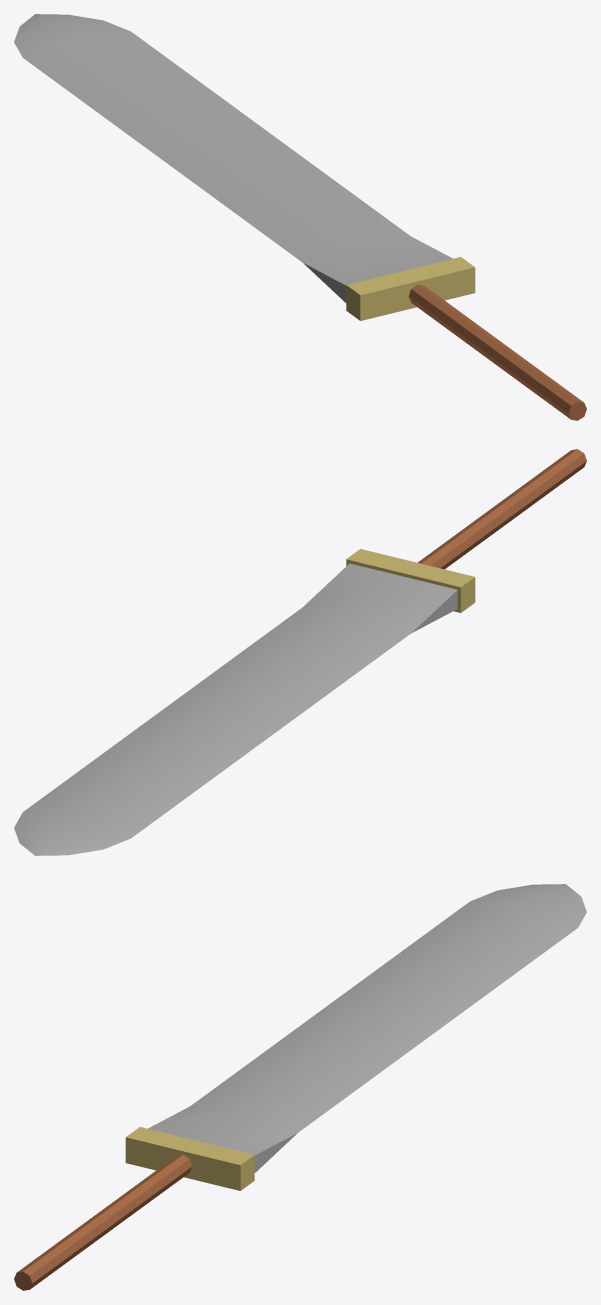
The model's file is Sword.fbx.
3 renders of one model, top to bottom at view 1: azimuth 30°, elevation 25°; view 2: azimuth 150°, elevation 25°; view 3: azimuth 330°, elevation 25°, orthographic.
Visible parts, largest first — view 1: Sword; view 2: Sword; view 3: Sword.
Boxes of the visible parts, x1,y1,x2,y2 form: Sword: [14, 14, 586, 420]; Sword: [14, 449, 586, 855]; Sword: [14, 884, 586, 1290].
Size of the model in its own units: 28.58 by 6.14 by 234.
